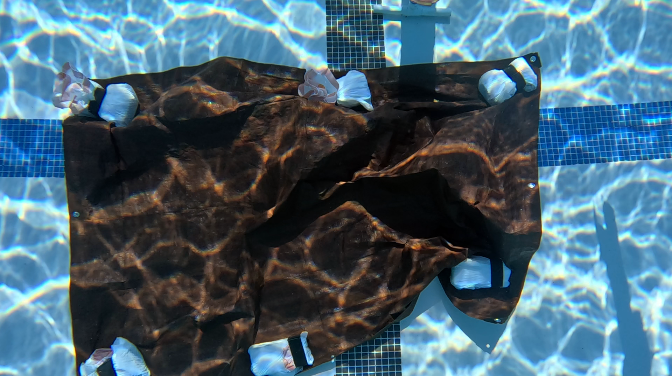pathmarker: (412, 0, 439, 5)
sandbag: (52, 52, 543, 375)
